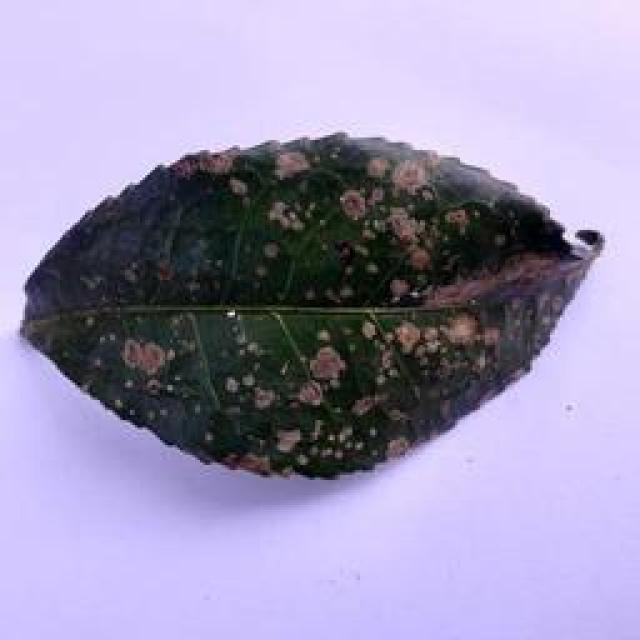Algal Leaf Spot: (26, 129, 604, 482)
